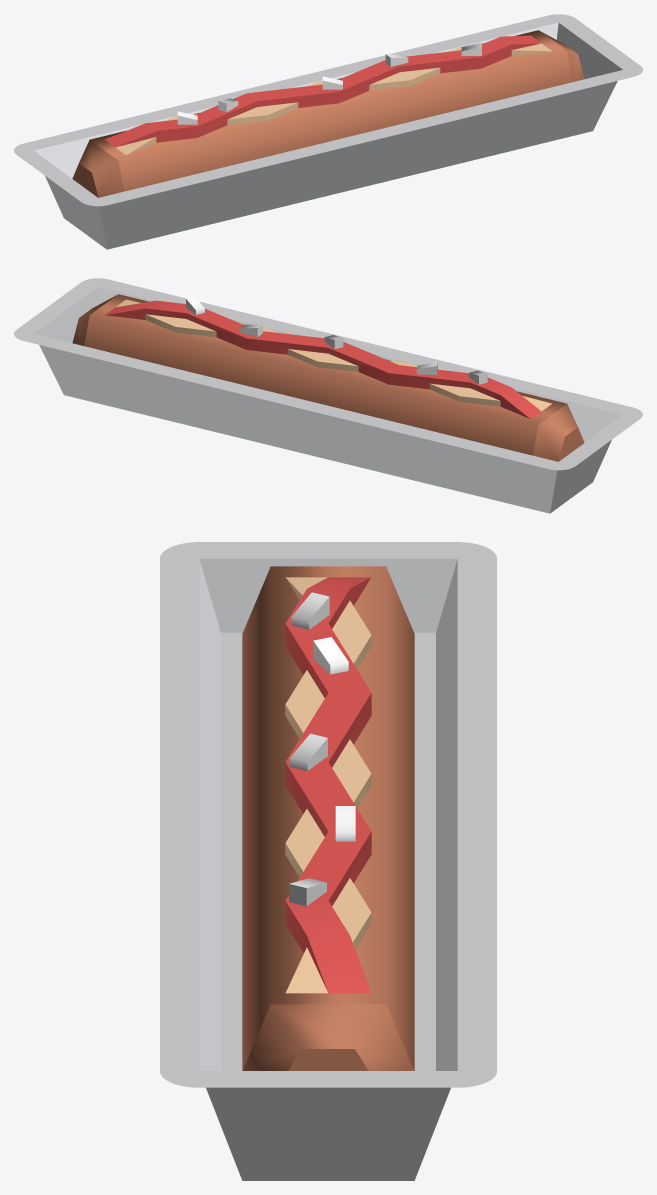
The model's file is frikandelSpeciaal.obj.
3 views of the same model, one above another, from view 1: azimuth 30°, elevation 25°; view 2: azimuth 150°, elevation 25°; view 3: azimuth 270°, elevation 25° (orthographic). The views are drawn at different scales.
Visible parts, largest first — view 1: frikandelSpeciaal, frikandel, sauceOnions; view 2: frikandelSpeciaal, frikandel, sauceOnions; view 3: frikandelSpeciaal, frikandel, sauceOnions.
Boxes of the visible parts, x1,y1,x2,y2 form: frikandelSpeciaal: (14, 14, 642, 249); frikandel: (72, 30, 584, 197); sauceOnions: (105, 35, 551, 155); frikandelSpeciaal: (14, 278, 642, 513); frikandel: (72, 294, 584, 461); sauceOnions: (105, 296, 551, 419); frikandelSpeciaal: (160, 542, 496, 1180); frikandel: (242, 566, 414, 1070); sauceOnions: (285, 577, 371, 993).
Size of the model in its own units: 0.636 by 0.1087 by 0.1661.
